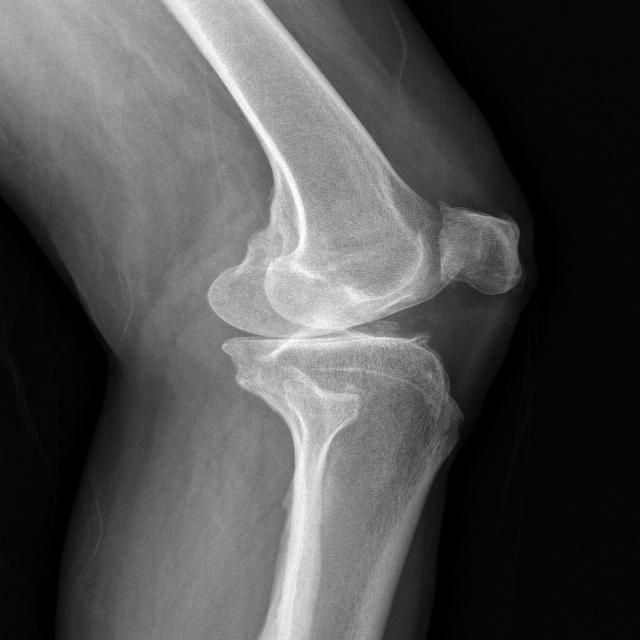Knee: (201, 199, 524, 438)
